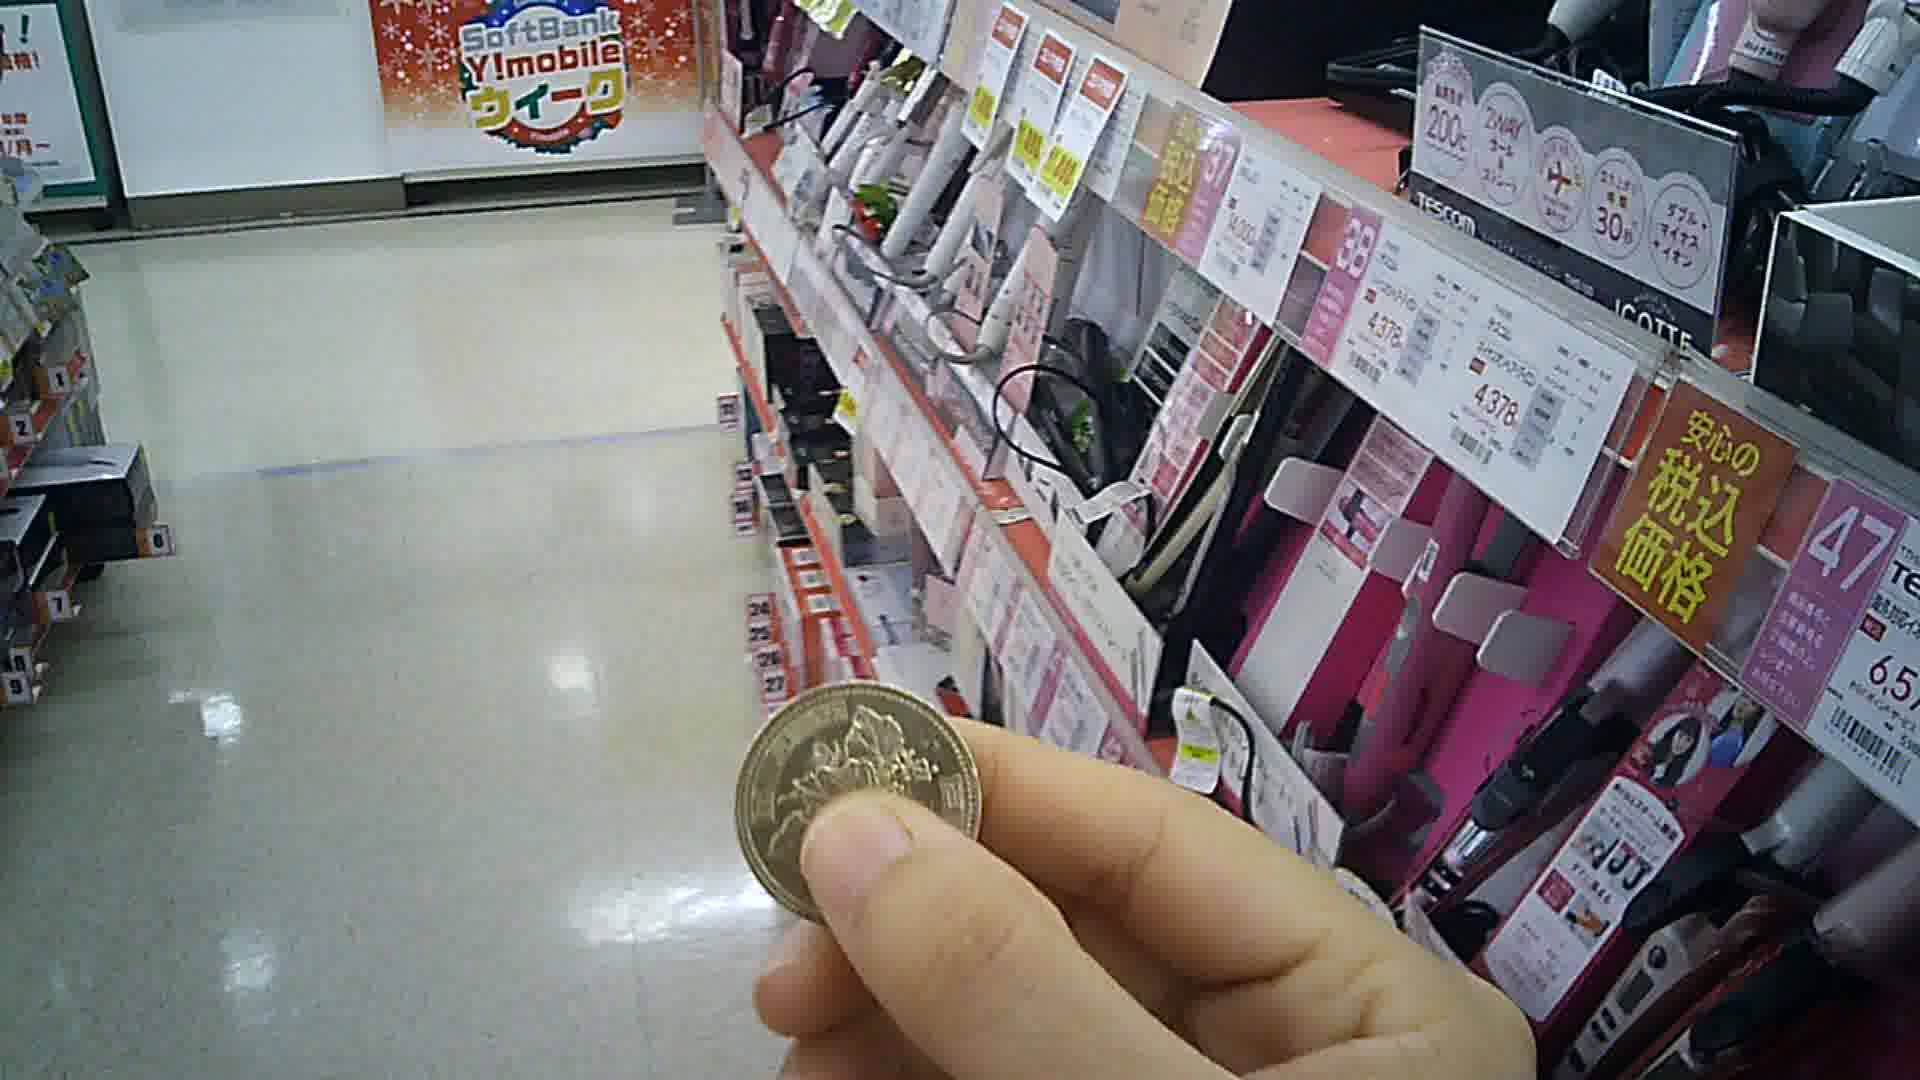500 Yen: (732, 680, 981, 930)
